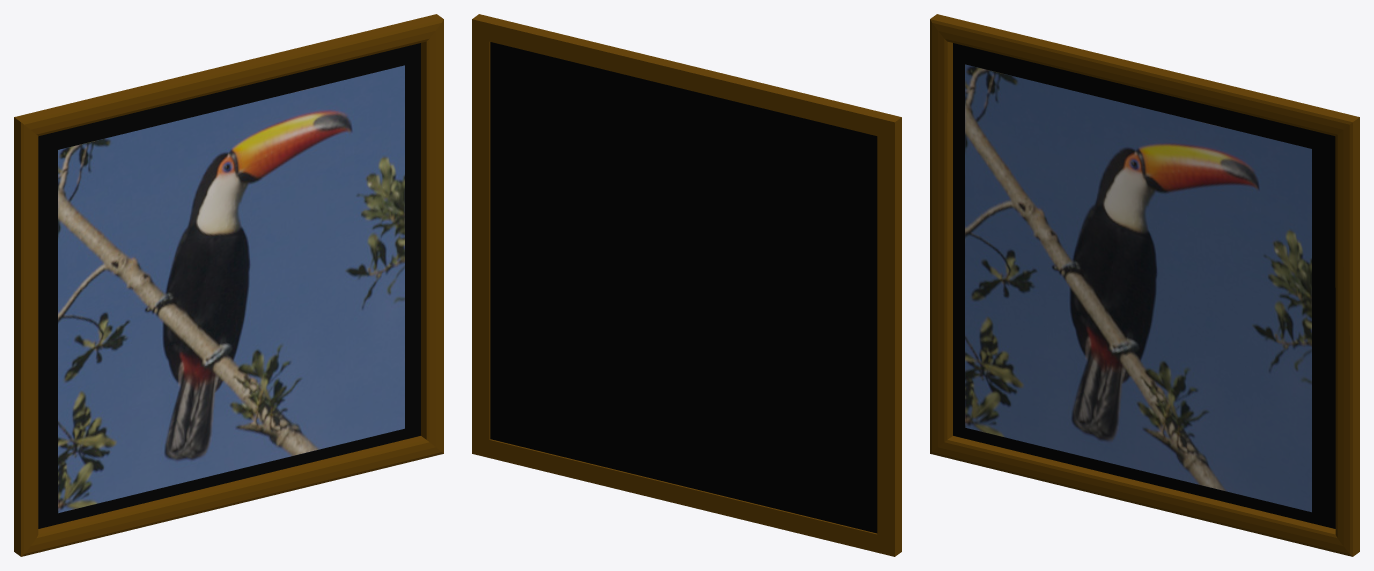
File: TucanFrame.obj
3 renders of one model, left to right at view 1: azimuth 30°, elevation 25°; view 2: azimuth 150°, elevation 25°; view 3: azimuth 330°, elevation 25°, orthographic.
Parts seen in each view (by area): view 1: Photo_Cube_Material_Tucan, WoodFrame_Cylinder_Wood.003, Frame_Black_Material.015; view 2: Frame_Black_Material.015, WoodFrame_Cylinder_Wood.003; view 3: Photo_Cube_Material_Tucan, WoodFrame_Cylinder_Wood.003, Frame_Black_Material.015.
Part boxes in pixels (bbox=[...]): Photo_Cube_Material_Tucan: bbox=[58, 65, 404, 513]; WoodFrame_Cylinder_Wood.003: bbox=[14, 14, 443, 556]; Frame_Black_Material.015: bbox=[38, 43, 420, 528]; Frame_Black_Material.015: bbox=[490, 42, 877, 533]; WoodFrame_Cylinder_Wood.003: bbox=[472, 14, 901, 556]; Photo_Cube_Material_Tucan: bbox=[965, 64, 1311, 512]; WoodFrame_Cylinder_Wood.003: bbox=[930, 14, 1359, 556]; Frame_Black_Material.015: bbox=[953, 43, 1335, 528].
Bounding box in the file's own units: 48.72 × 47.86 × 1.6.
Materials: 3 (1 with a texture image).
